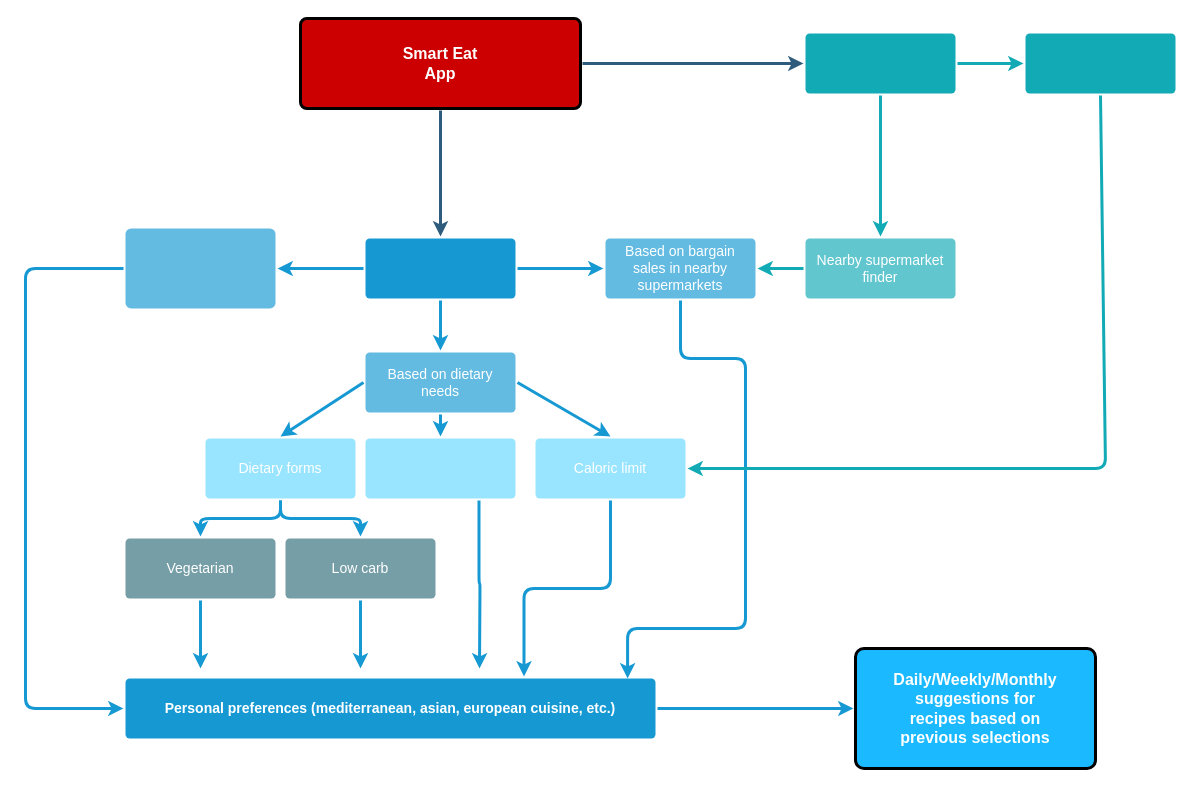
Image size: 1193x787. Some labels were removed from this diagram. Each missing label, with the box of its shape:
Based on already available ingredients in the fridge: (125, 228, 275, 308)
Daily calory intake calculator: (1025, 33, 1175, 93)
Food for gym workouts/athletes: (365, 438, 515, 498)
Misc functions: (805, 33, 955, 93)
Recipes: (365, 238, 515, 298)
